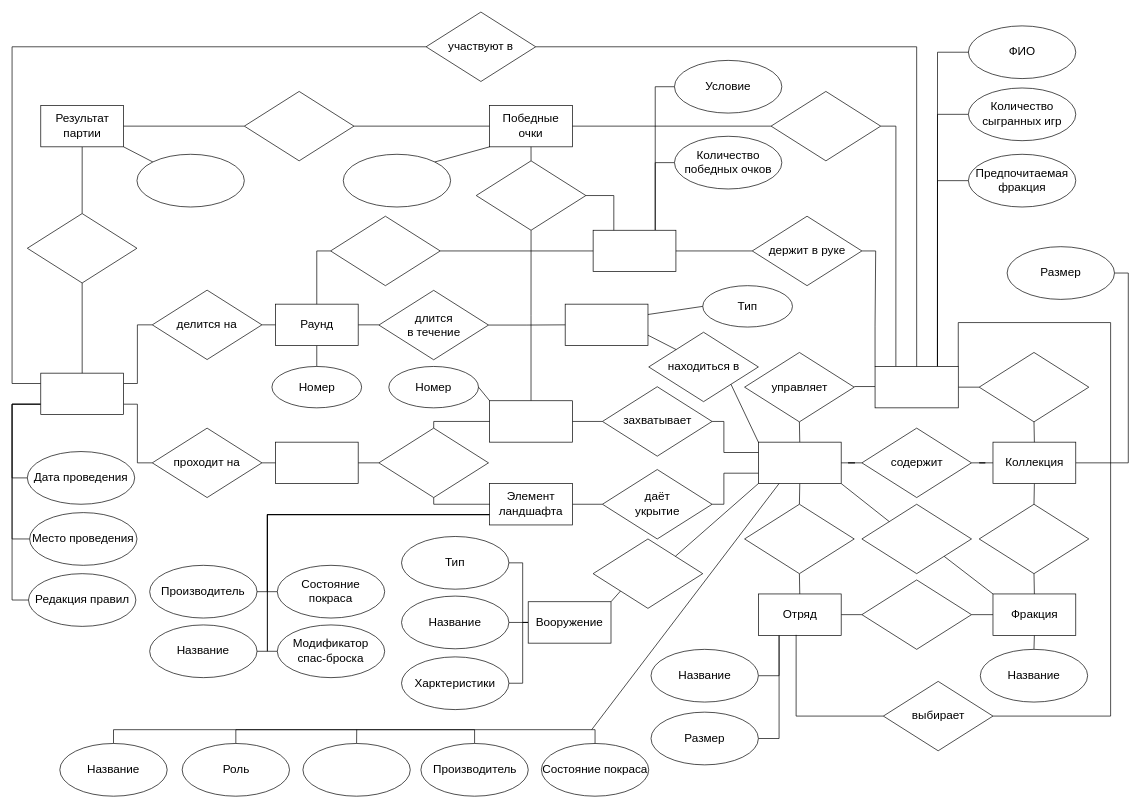
The diagram is 1141 pixels wide and 809 high, and some of its shapes have lost their labels. Each missing label, with the centre of its shape:
"включает" goes at (x=433, y=462).
"играется в течение" goes at (x=385, y=251).
"Игровая партия" goes at (x=82, y=393).
"Игровое поле" goes at (x=316, y=462).
"Игрок" goes at (x=916, y=387).
"имеет" goes at (x=647, y=573).
"Имя победителя" goes at (x=190, y=180).
"Карта миссии" goes at (x=634, y=251).
"Ключевая точка" goes at (x=530, y=421).
"Количество" goes at (x=397, y=180).
"Миниатюра" goes at (x=799, y=462).
"набирает" goes at (x=825, y=126).
"обладает" goes at (x=1033, y=387).
"определяет варианты" goes at (x=916, y=614).
"определяют" goes at (x=299, y=126).
"отражена в" goes at (x=1033, y=539).
"принадлежит" goes at (x=916, y=539).
"приносит" goes at (x=531, y=195).
"Состояние" goes at (x=606, y=324).
"фиксируется в конце" goes at (x=82, y=248).
"Характеристики" goes at (x=356, y=769).
"является частью" goes at (x=799, y=539).
